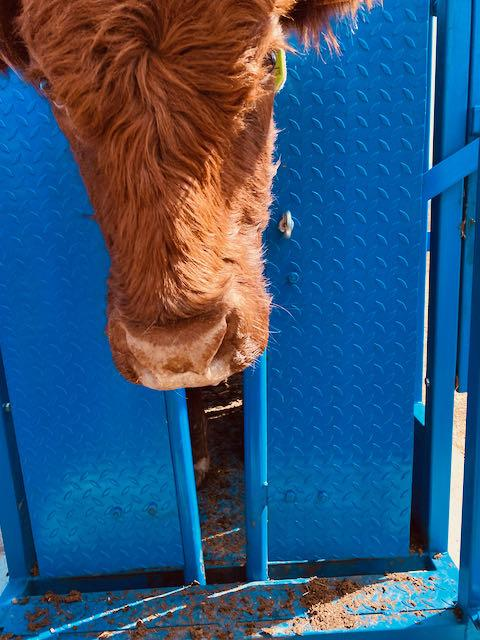muzzles: (94, 315, 287, 401)
